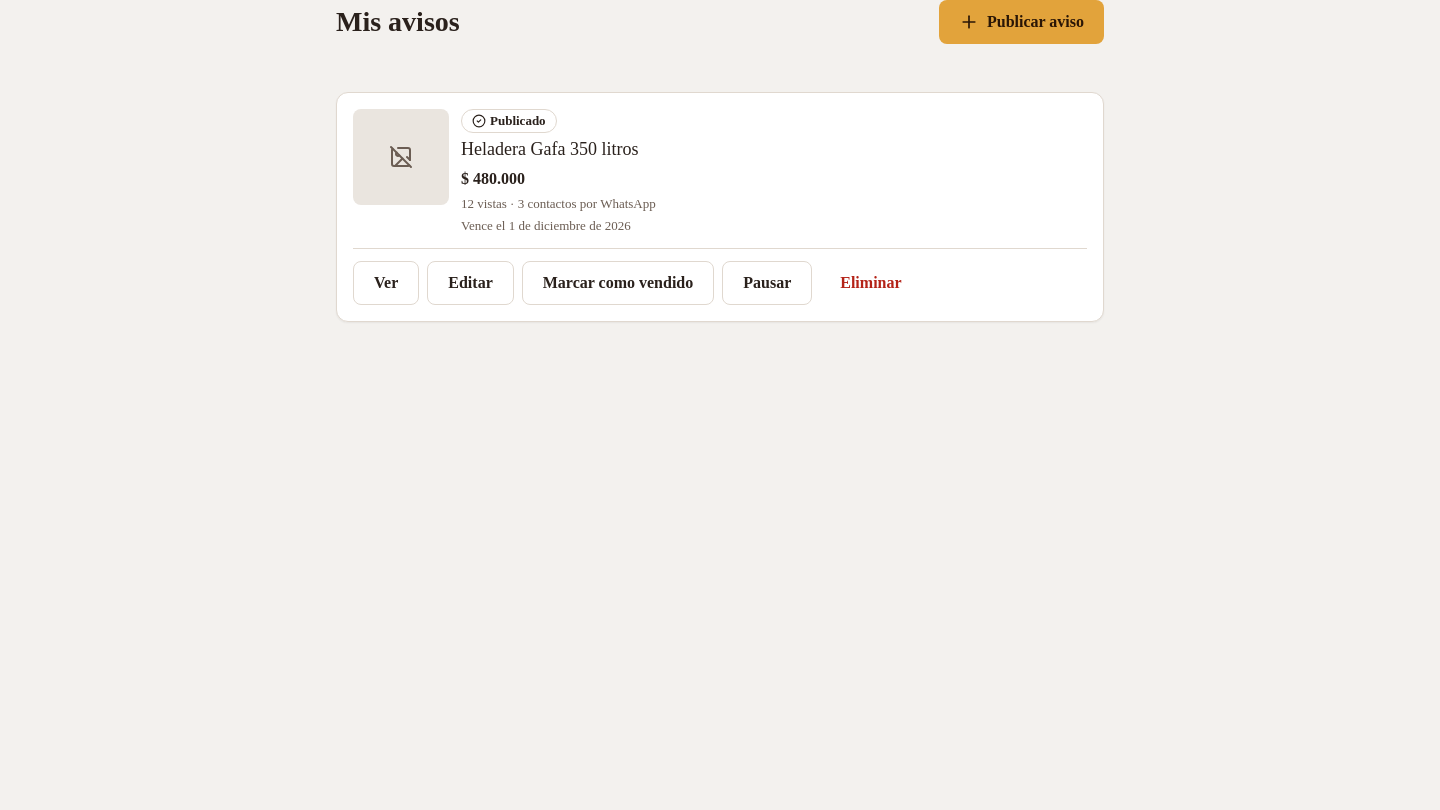
it: MisAvisosPage › elimina solo después de confirmar en el diálogo
Click the button "Eliminar".
click(871, 283)  # box x1=820 y1=261 x2=922 y2=305
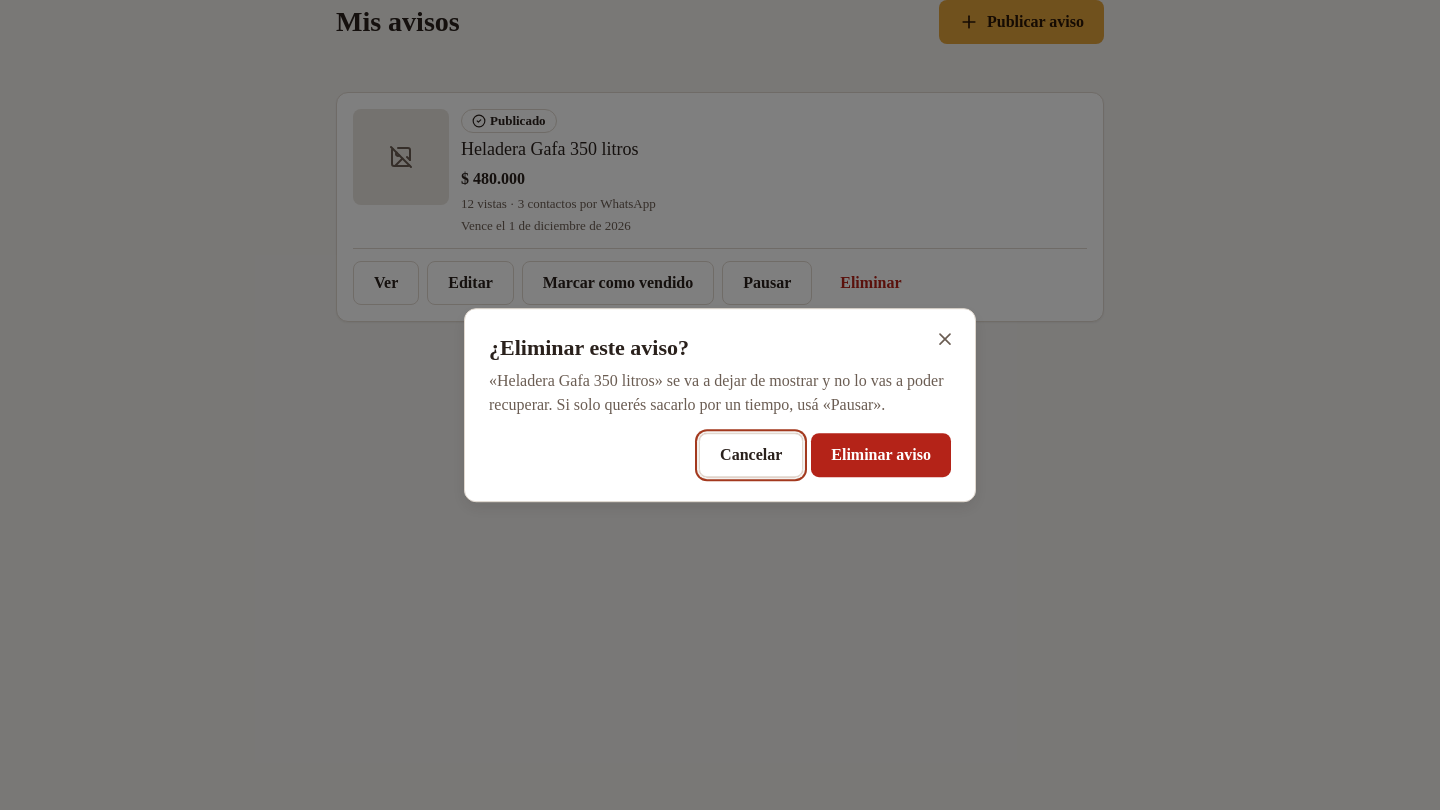
Check: the heading "¿Eliminar este aviso?" is shown, box x1=489 y1=335 x2=689 y2=360
Click the button "Cancelar".
click(751, 455)  # box x1=699 y1=433 x2=803 y2=477
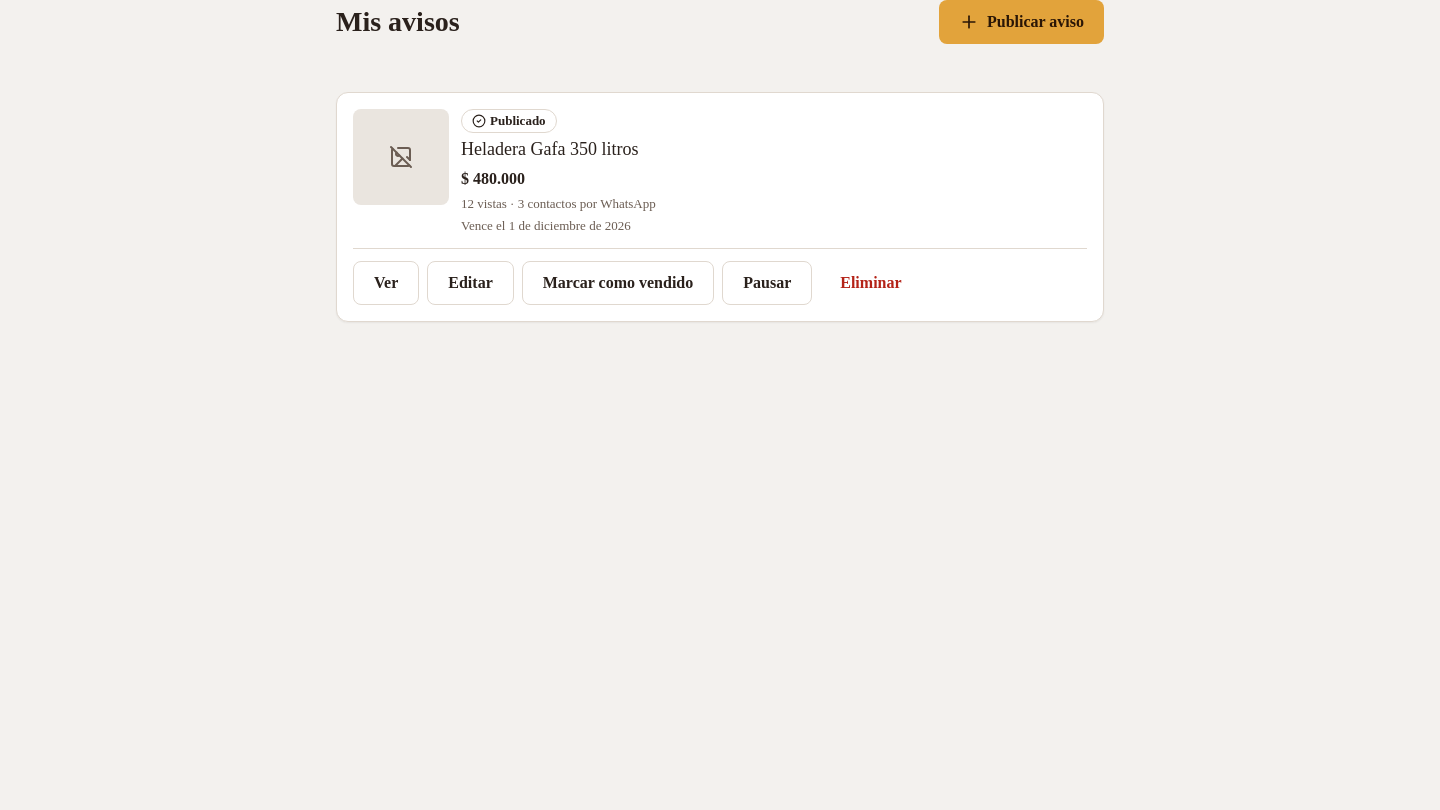
Check: the dialog is gone
Click the button "Eliminar".
click(871, 283)  # box x1=820 y1=261 x2=922 y2=305
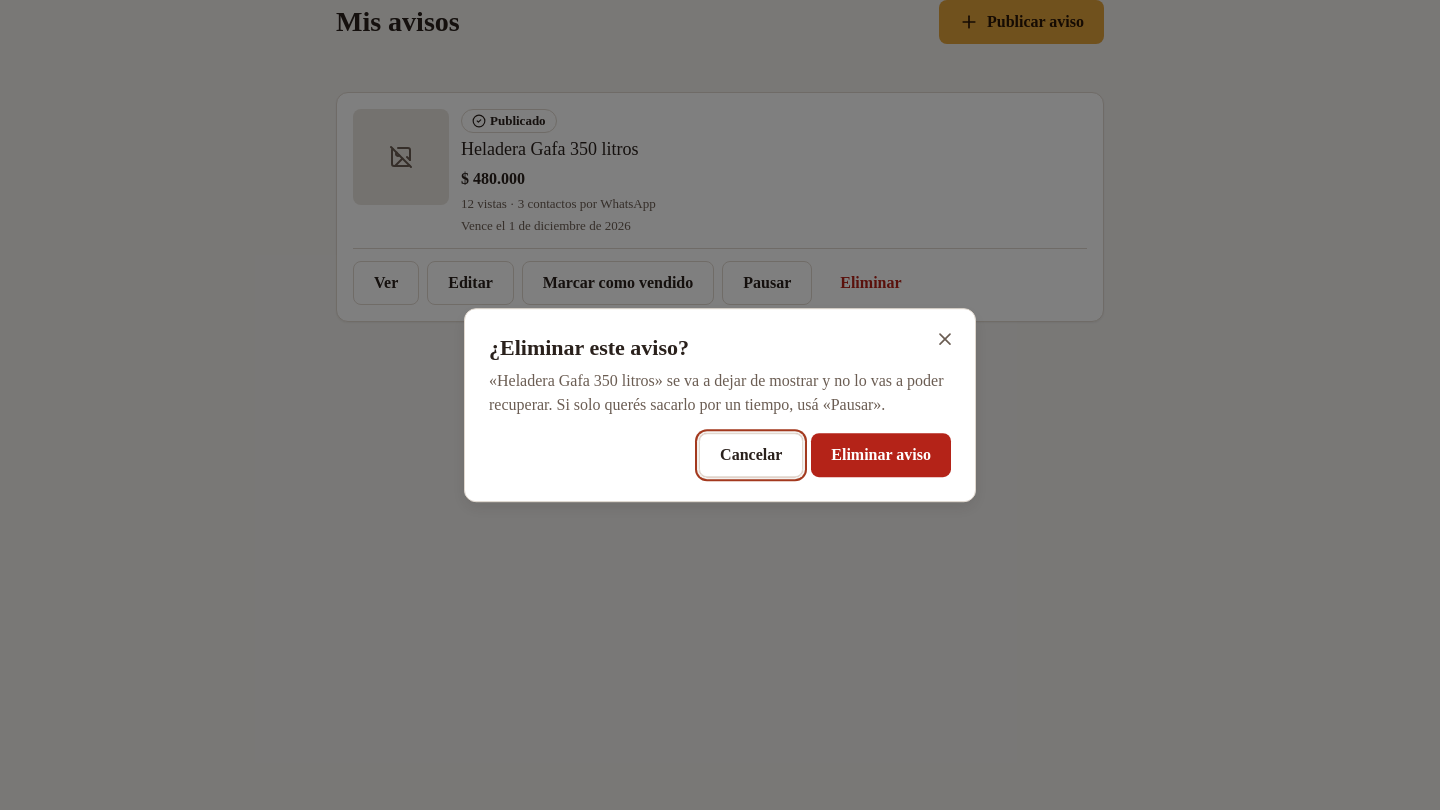
Click the button "Eliminar aviso".
click(881, 455)  # box x1=811 y1=433 x2=951 y2=477
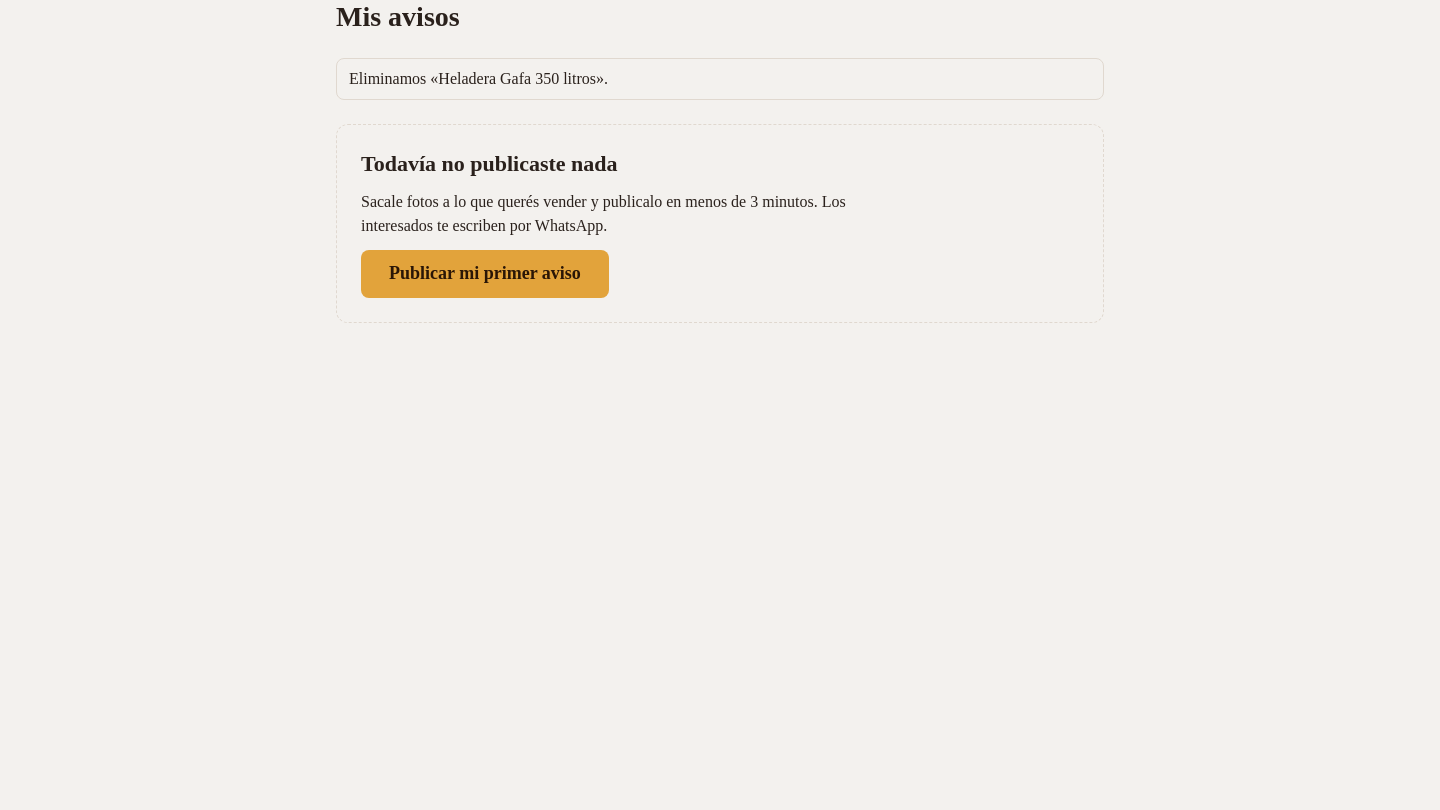
Check: the text "Eliminamos «Heladera Gafa 350 litros»." is shown, box x1=336 y1=58 x2=1104 y2=100
